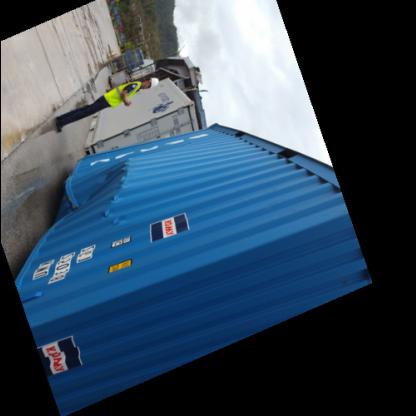Damage: (56, 157, 140, 242)
